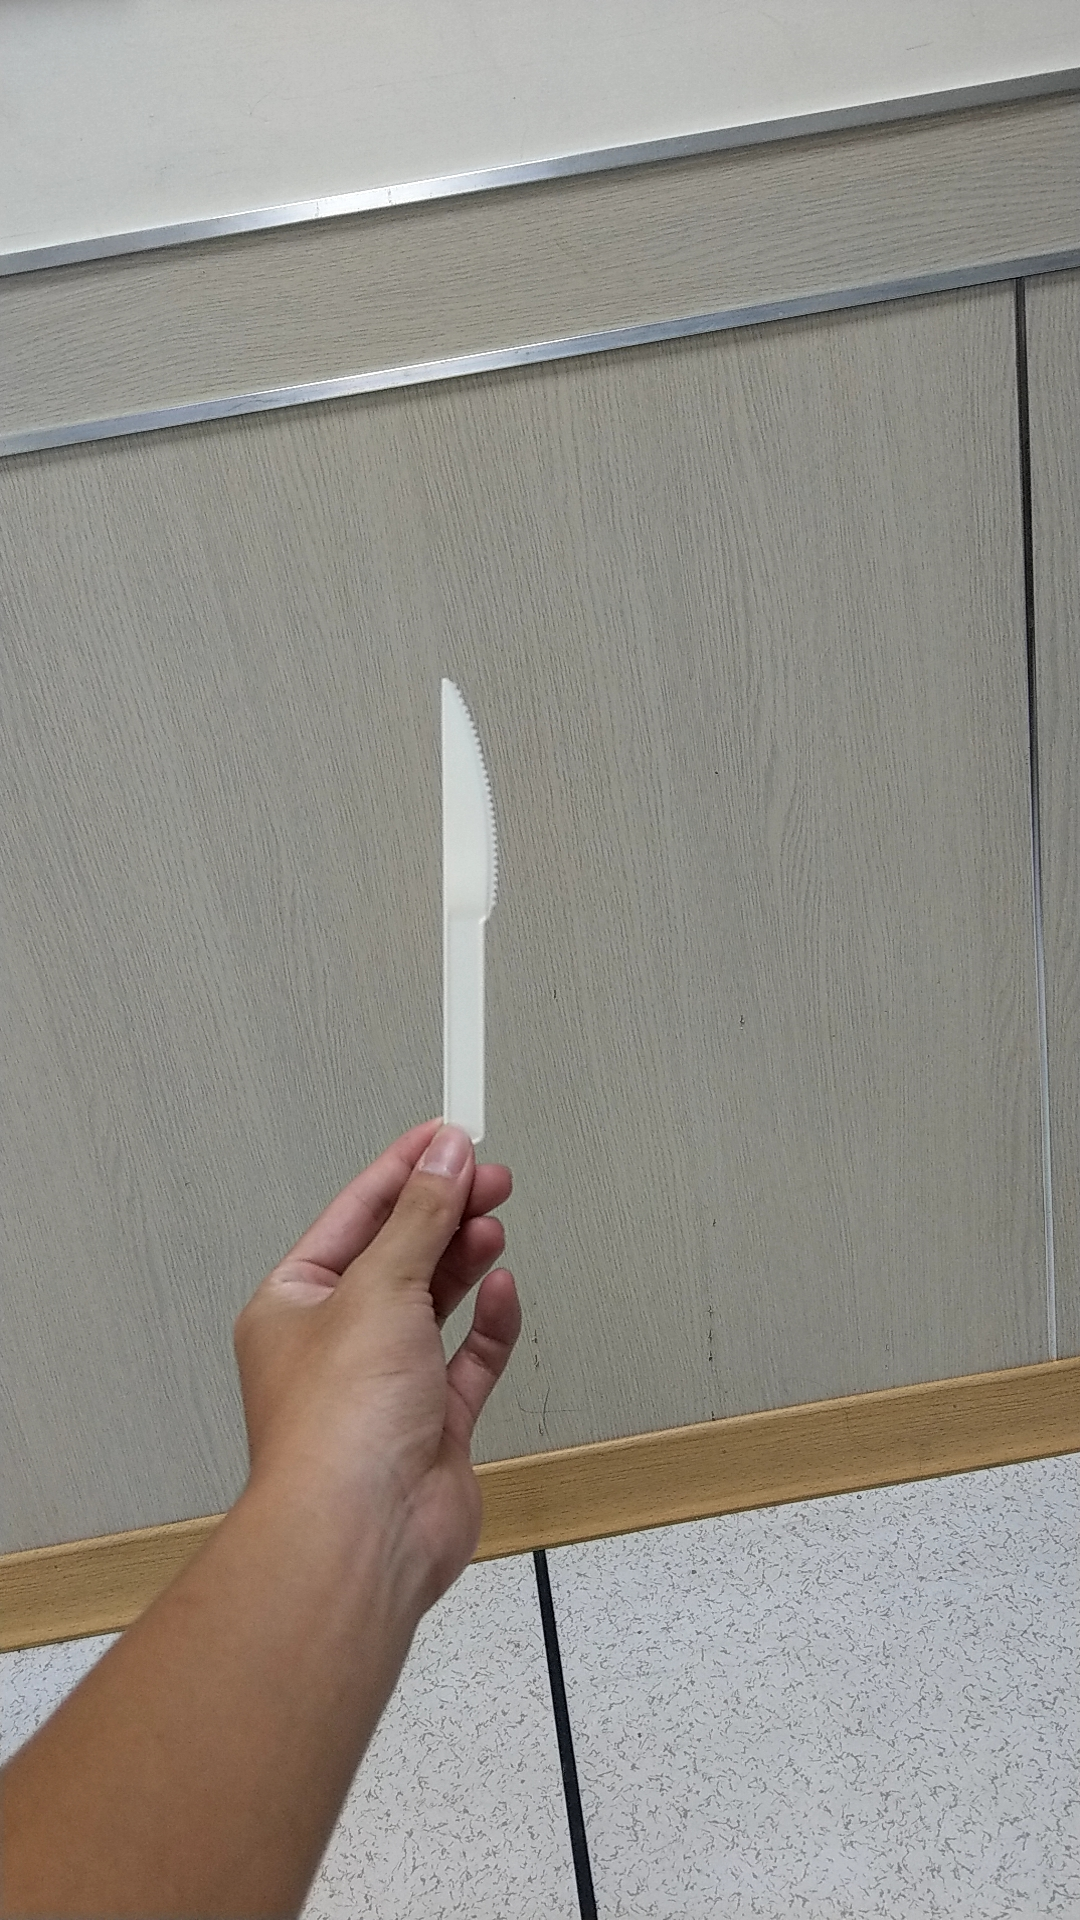knife: (393, 669, 535, 1135)
